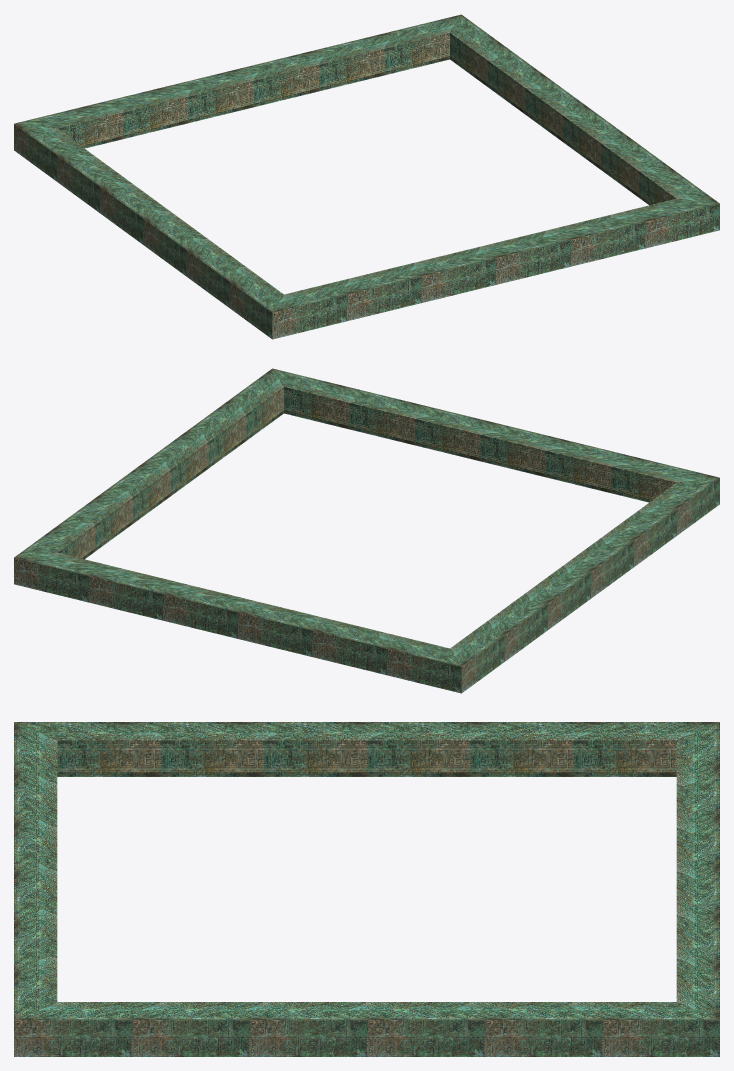
The model's file is tray.glb.
The picture shows the model from 3 angles, top to bottom: view 1: azimuth 30°, elevation 25°; view 2: azimuth 150°, elevation 25°; view 3: azimuth 270°, elevation 25°; orthographic projection. The views are drawn at different scales.
Parts seen in each view (by area): view 1: tray; view 2: tray; view 3: tray.
Boxes of the visible parts, box(x1,y1,x2,y2) form: tray: box(14, 14, 719, 339); tray: box(14, 368, 719, 693); tray: box(14, 722, 719, 1056).
Size of the model in its own units: 0.456 by 0.026 by 0.456.
Materials: 1 (1 with a texture image).
